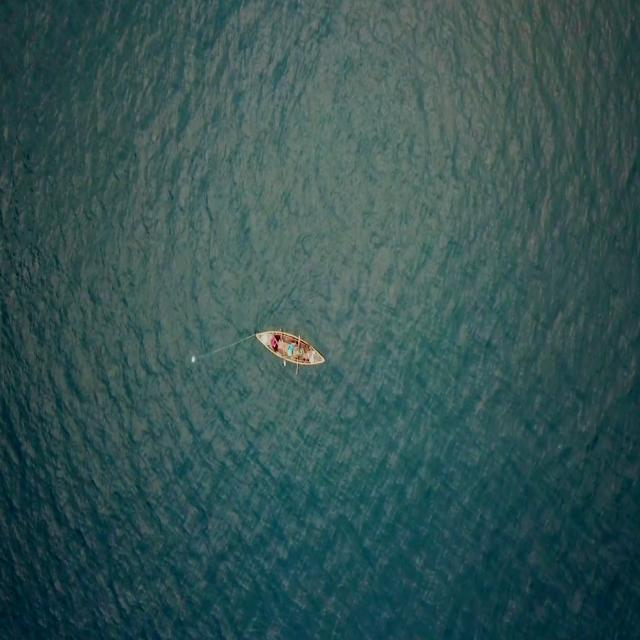ship: (251, 322, 329, 369)
